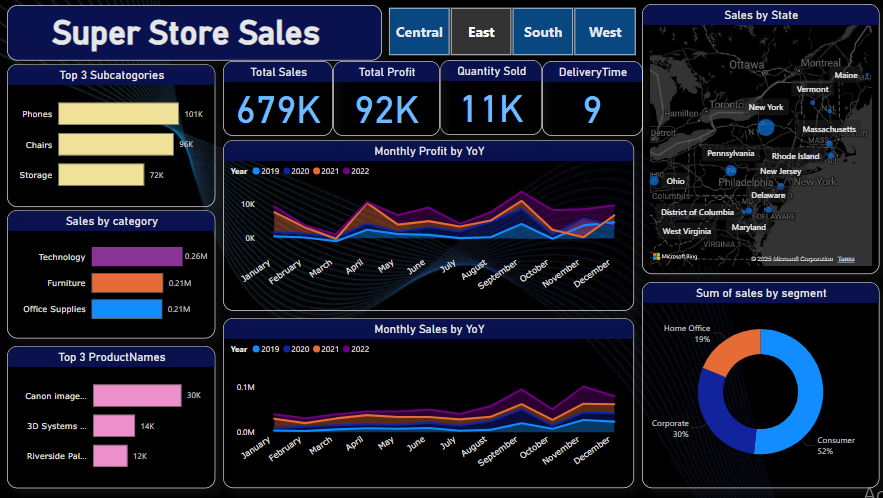

The dashboard page shown, as its layout file describes it:
{"tool":"powerbi","page":{"name":"Page 1","canvas":[1280,720],"ordinal":0},"visuals":[{"type":"clusteredBarChart","title":"Sales by category","fields":{"Category":["superstore.category"],"Y":["Sum(superstore.sales)"]},"box":[12.3,303.1,300,184.6],"z":0},{"type":"clusteredBarChart","title":"Top 3 Subcatogories","fields":{"Category":["superstore.subcategory"],"Y":["Sum(superstore.sales)"]},"box":[12.3,92.3,300,206.2],"z":1000},{"type":"stackedAreaChart","title":"Monthly Sales by YoY","fields":{"Y":["Sum(superstore.sales)"],"Category":["superstore.order_date.Variation.Date Hierarchy.Month","superstore.order_date.Variation.Date Hierarchy.Day"],"Series":["superstore.order_date.Variation.Date Hierarchy.Year"]},"box":[324.6,458.5,592.3,244.6],"z":2000},{"type":"stackedAreaChart","title":"Monthly Profit by YoY","fields":{"Category":["superstore.order_date.Variation.Date Hierarchy.Month","superstore.order_date.Variation.Date Hierarchy.Day"],"Series":["superstore.order_date.Variation.Date Hierarchy.Year"],"Y":["Sum(superstore.profit)"]},"box":[324.6,201.5,592.3,246.2],"z":3000},{"type":"donutChart","fields":{"Y":["Sum(superstore.sales)"],"Category":["superstore.segment"]},"box":[927.7,406.2,341.5,296.9],"z":4000},{"type":"slicer","fields":{"Values":["superstore.region"]},"box":[537.1,4.3,404.6,82.1],"z":5000},{"type":"clusteredBarChart","title":"Top 3 ProductNames","fields":{"Category":["superstore.product_name"],"Y":["Sum(superstore.sales)"]},"box":[12.3,498.5,300,204.6],"z":6000},{"type":"textbox","box":[12.3,7.7,540,80],"z":7000},{"type":"card","title":"Total Sales","fields":{"Values":["Sum(superstore.sales)"]},"box":[324.6,87.7,158.5,107.7],"z":8000},{"type":"card","title":"Quantity Sold","fields":{"Values":["Sum(superstore.quantity)"]},"box":[636.5,86.4,146.9,108],"z":9000},{"type":"card","title":"Total Profit","fields":{"Values":["Sum(superstore.profit)"]},"box":[483.1,87.7,153.8,107.7],"z":10000},{"type":"card","title":"DeliveryTime","fields":{"Values":["Avg(superstore.AvgDeliveryTime)"]},"box":[783.1,87.7,144.6,107.7],"z":11000},{"type":"map","title":"Sales by State","fields":{"Category":["superstore.state"],"Size":["Sum(superstore.sales)"]},"box":[927.7,6.2,341.5,389.2],"z":12000}]}

Visuals, with their boxes in screenshot pixels (x1, y1, x2, y2), scaled from the page's 1280x720 canvas onto the 883x498 screenshot:
"Sales by category" clusteredBarChart: [x1=8, y1=210, x2=215, y2=337]
"Top 3 Subcatogories" clusteredBarChart: [x1=8, y1=64, x2=215, y2=206]
"Monthly Sales by YoY" stackedAreaChart: [x1=224, y1=317, x2=633, y2=486]
"Monthly Profit by YoY" stackedAreaChart: [x1=224, y1=139, x2=633, y2=310]
donutChart - Sum(superstore.sales) x superstore.segment: [x1=640, y1=281, x2=876, y2=486]
slicer - superstore.region: [x1=371, y1=3, x2=650, y2=60]
"Top 3 ProductNames" clusteredBarChart: [x1=8, y1=345, x2=215, y2=486]
textbox: [x1=8, y1=5, x2=381, y2=61]
"Total Sales" card: [x1=224, y1=61, x2=333, y2=135]
"Quantity Sold" card: [x1=439, y1=60, x2=540, y2=134]
"Total Profit" card: [x1=333, y1=61, x2=439, y2=135]
"DeliveryTime" card: [x1=540, y1=61, x2=640, y2=135]
"Sales by State" map: [x1=640, y1=4, x2=876, y2=273]
